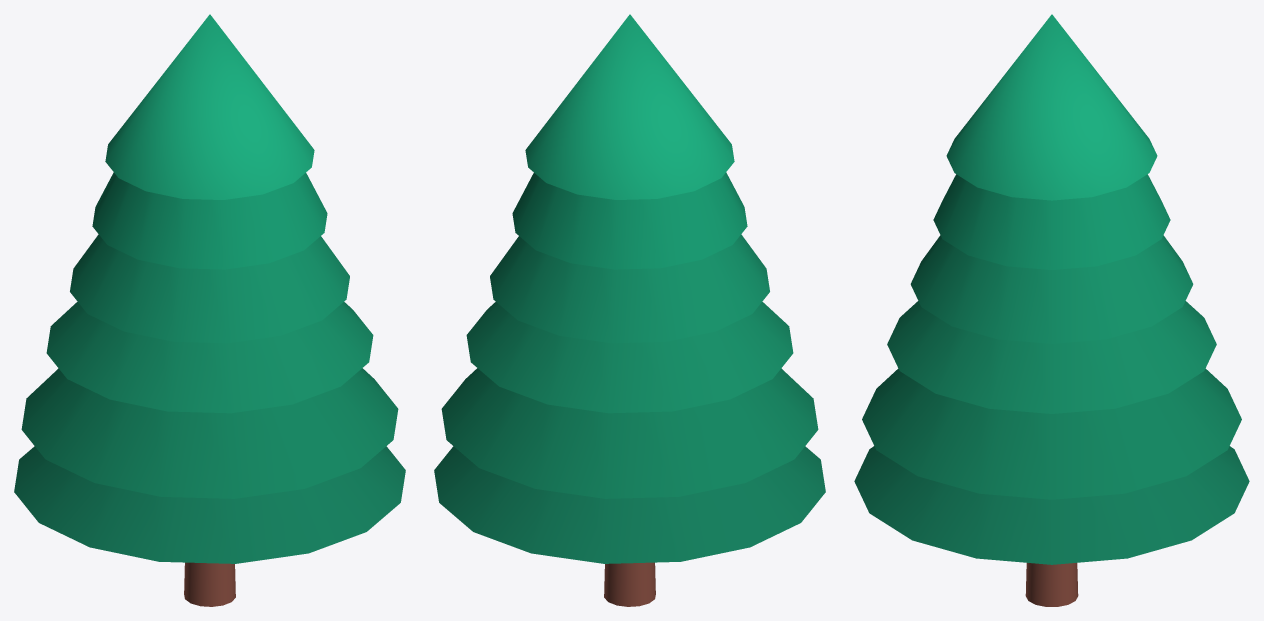
File: Spruce_Cold_Turquoise_Thick_1.fbx
3 views of the same model, side by side, from view 1: azimuth 30°, elevation 25°; view 2: azimuth 150°, elevation 25°; view 3: azimuth 270°, elevation 25° (orthographic).
Visible parts, largest first — view 1: Cylinder.200, Cylinder.201, Cylinder.199, Cylinder.198, Cylinder.196, Cylinder.197, Cylinder.202; view 2: Cylinder.200, Cylinder.201, Cylinder.199, Cylinder.198, Cylinder.196, Cylinder.197, Cylinder.202; view 3: Cylinder.200, Cylinder.201, Cylinder.199, Cylinder.198, Cylinder.196, Cylinder.197, Cylinder.202.
Part boxes in pixels (box(x1,y1,x2,y2)): Cylinder.200: box(21, 368, 398, 498); Cylinder.201: box(14, 446, 405, 563); Cylinder.199: box(105, 14, 314, 199); Cylinder.198: box(46, 302, 373, 413); Cylinder.196: box(70, 234, 349, 343); Cylinder.197: box(92, 172, 327, 269); Cylinder.202: box(184, 562, 235, 606); Cylinder.200: box(441, 368, 818, 498); Cylinder.201: box(434, 446, 825, 563); Cylinder.199: box(525, 14, 734, 199); Cylinder.198: box(466, 302, 793, 413); Cylinder.196: box(490, 234, 769, 343); Cylinder.197: box(512, 172, 747, 269); Cylinder.202: box(604, 562, 655, 606); Cylinder.200: box(862, 368, 1241, 499); Cylinder.201: box(854, 446, 1249, 564); Cylinder.199: box(946, 14, 1157, 200); Cylinder.198: box(887, 301, 1216, 413); Cylinder.196: box(910, 235, 1193, 343); Cylinder.197: box(933, 174, 1170, 269); Cylinder.202: box(1025, 563, 1078, 606).
Size of the model in its own units: 349 by 567 by 349.
